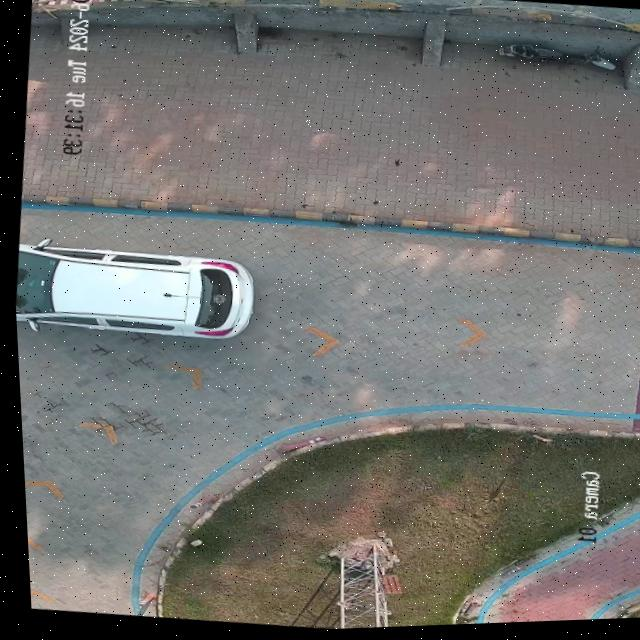car: (12, 239, 250, 339)
